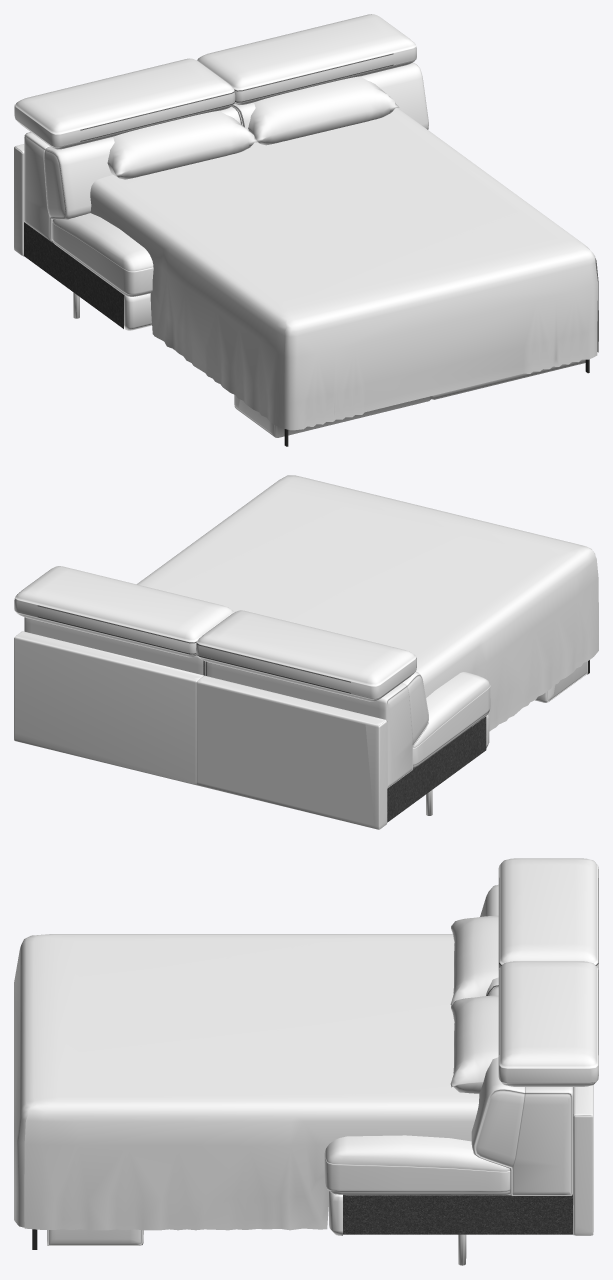
File: DOLORES_274X.glb
The picture shows the model from 3 angles, top to bottom: view 1: azimuth 30°, elevation 25°; view 2: azimuth 150°, elevation 25°; view 3: azimuth 270°, elevation 25°; orthographic projection. The views are drawn at different scales.
Visible parts, largest first — view 1: SHEET.002, HEADREST.026, BACK.008, PILLOW.003 (1), PILLOW.003 (2), SEAT.035, COVERING.010, BACK.037, SHELL.011, STITCHES.086, SHORE.029; view 2: SHEET.002, SHELL.011, HEADREST.026, BACK.008, SEAT.035, COVERING.010, STITCHES.086, BACK.037; view 3: SHEET.002, HEADREST.026, BACK.008, SEAT.035, COVERING.010, PILLOW.003 (2), PILLOW.003 (1), SHELL.011, BACK.037, SHORE.029.
Part boxes in pixels (x1=…): SHEET.002: x1=90, y1=108, x2=598, y2=430; HEADREST.026: x1=14, y1=14, x2=416, y2=149; BACK.008: x1=24, y1=62, x2=428, y2=242; PILLOW.003 (1): x1=107, y1=110, x2=257, y2=179; PILLOW.003 (2): x1=248, y1=76, x2=399, y2=145; SEAT.035: x1=52, y1=213, x2=153, y2=296; COVERING.010: x1=24, y1=222, x2=123, y2=328; BACK.037: x1=234, y1=359, x2=585, y2=437; SHELL.011: x1=14, y1=144, x2=24, y2=256; STITCHES.086: x1=80, y1=53, x2=393, y2=141; SHORE.029: x1=124, y1=293, x2=151, y2=330; SHEET.002: x1=137, y1=475, x2=598, y2=731; SHELL.011: x1=14, y1=631, x2=387, y2=829; HEADREST.026: x1=14, y1=566, x2=416, y2=701; BACK.008: x1=24, y1=617, x2=428, y2=788; SEAT.035: x1=413, y1=672, x2=490, y2=767; COVERING.010: x1=387, y1=716, x2=486, y2=822; STITCHES.086: x1=37, y1=605, x2=350, y2=693; BACK.037: x1=535, y1=661, x2=587, y2=702; SHEET.002: x1=14, y1=934, x2=509, y2=1230; HEADREST.026: x1=498, y1=858, x2=598, y2=1086; BACK.008: x1=471, y1=884, x2=573, y2=1195; SEAT.035: x1=324, y1=1135, x2=510, y2=1195; COVERING.010: x1=343, y1=1195, x2=572, y2=1234; PILLOW.003 (2): x1=450, y1=995, x2=498, y2=1093; PILLOW.003 (1): x1=450, y1=915, x2=498, y2=1005; SHELL.011: x1=573, y1=1085, x2=593, y2=1235; BACK.037: x1=47, y1=1229, x2=143, y2=1245; SHORE.029: x1=329, y1=1191, x2=342, y2=1235.
Size of the model in its own units: 1.83 by 0.8571 by 2.18.
Materials: 12 (2 with a texture image).
